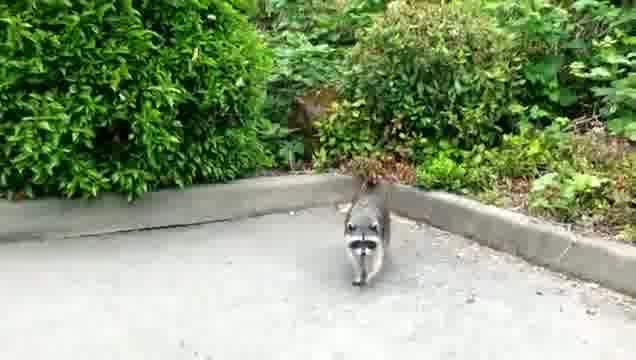raccoon: (342, 192, 393, 289)
